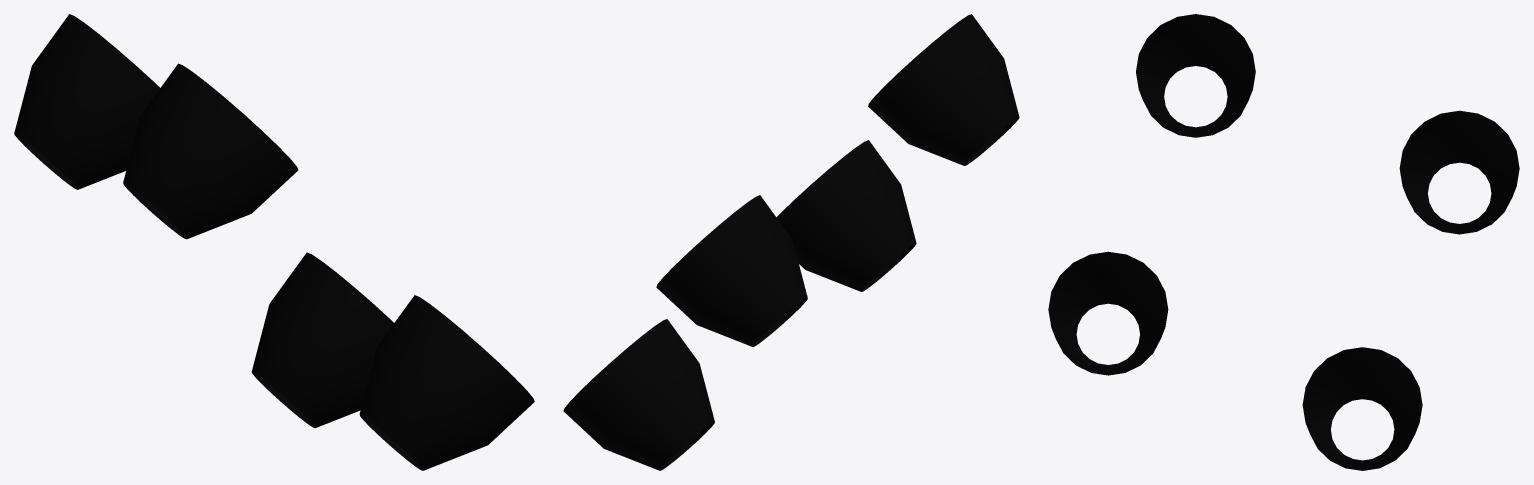
Rendered from wires.fbx.
The picture shows the model from 3 angles, left to right: view 1: azimuth 30°, elevation 25°; view 2: azimuth 150°, elevation 25°; view 3: azimuth 270°, elevation 25°; orthographic projection. The views are drawn at different scales.
Parts seen in each view (by area): view 1: pCylinder3, pCylinder2, pCylinder4, pCylinder1; view 2: pCylinder3, pCylinder1, pCylinder4, pCylinder2; view 3: pCylinder1, pCylinder2, pCylinder4, pCylinder3.
Boxes of the visible parts, left/top/right/bottom form: pCylinder3: left=123, top=63, right=298, bottom=239; pCylinder2: left=359, top=295, right=534, bottom=470; pCylinder4: left=14, top=14, right=159, bottom=189; pCylinder1: left=251, top=252, right=393, bottom=428; pCylinder3: left=868, top=14, right=1019, bottom=165; pCylinder1: left=563, top=319, right=714, bottom=470; pCylinder4: left=656, top=195, right=807, bottom=346; pCylinder2: left=776, top=140, right=916, bottom=291; pCylinder1: left=1302, top=347, right=1422, bottom=470; pCylinder2: left=1048, top=251, right=1168, bottom=375; pCylinder4: left=1399, top=110, right=1519, bottom=234; pCylinder3: left=1136, top=14, right=1255, bottom=137.
Size of the model in its own units: 2.35 by 2.79 by 3.27.
1 material, 1 textured.
